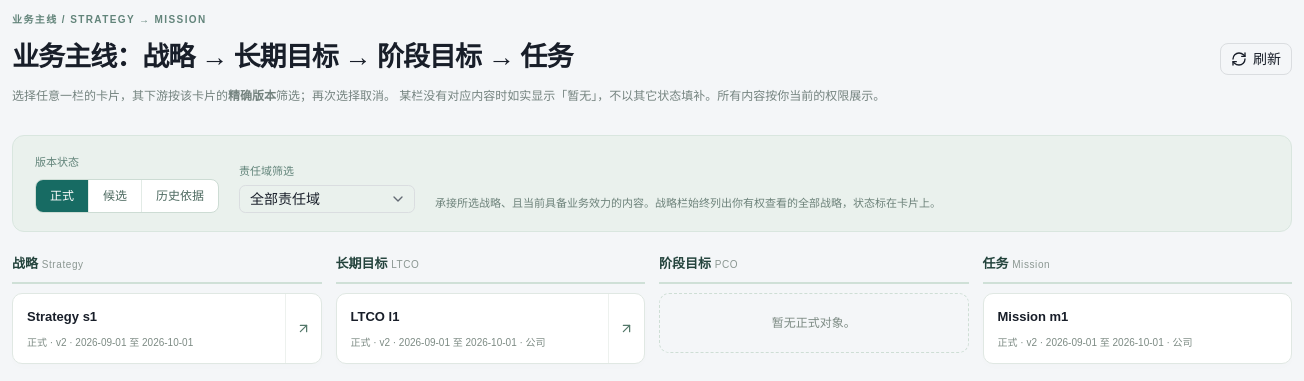
shows the four lanes and hides candidates behind the formal default
Expected: the button with test id "lane-strategy-s1" is shown, [13,294,282,362]
Expected: the element "战略 Strategy" is shown, [12,254,322,364]
Click the button "候选".
click(116, 196)  # box [89,180,142,212]
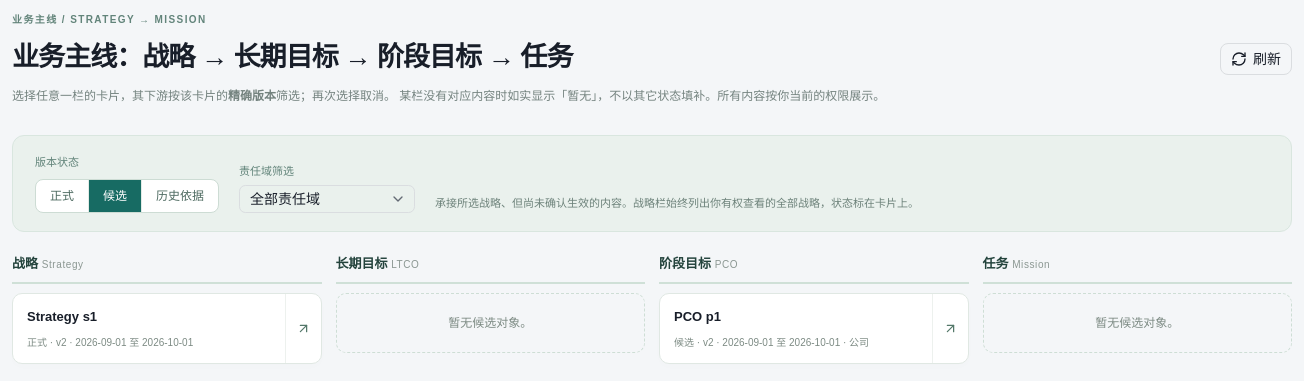
Expected: the text "PCO p1" is shown, [674,309,721,324]
Expected: the 2nd text "暂无候选对象。" is shown, [982,293,1292,353]
